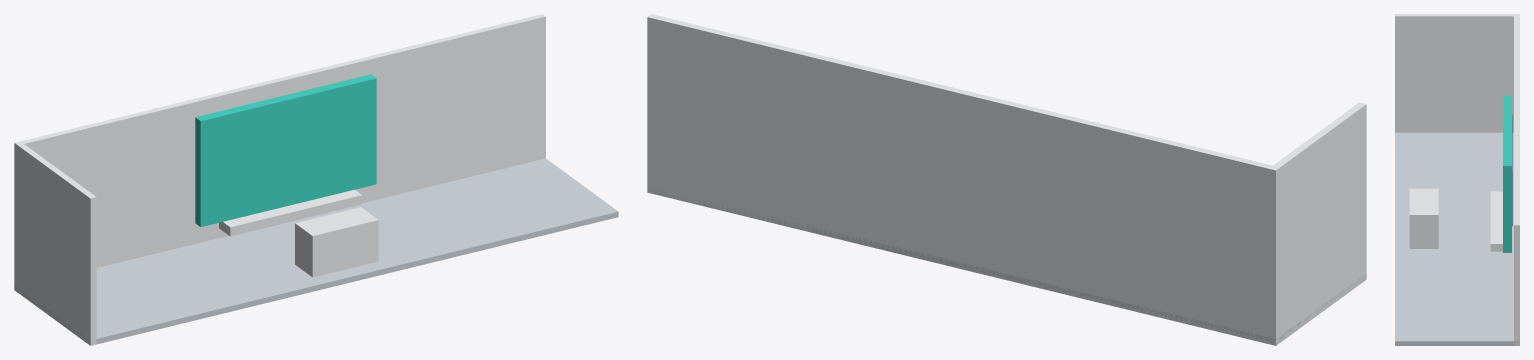
3 renders of one model, left to right at view 1: azimuth 30°, elevation 25°; view 2: azimuth 150°, elevation 25°; view 3: azimuth 270°, elevation 25°, orthographic. The views are drawn at different scales.
Visible parts, largest first — view 1: Exhibition Booth Concept; view 2: Exhibition Booth Concept; view 3: Exhibition Booth Concept.
Part boxes in pixels (bbox=[...]): Exhibition Booth Concept: bbox=[14, 14, 618, 345]; Exhibition Booth Concept: bbox=[647, 14, 1366, 345]; Exhibition Booth Concept: bbox=[1395, 14, 1519, 345].
Bounding box in the file's own units: 12 × 3.2 × 3.
